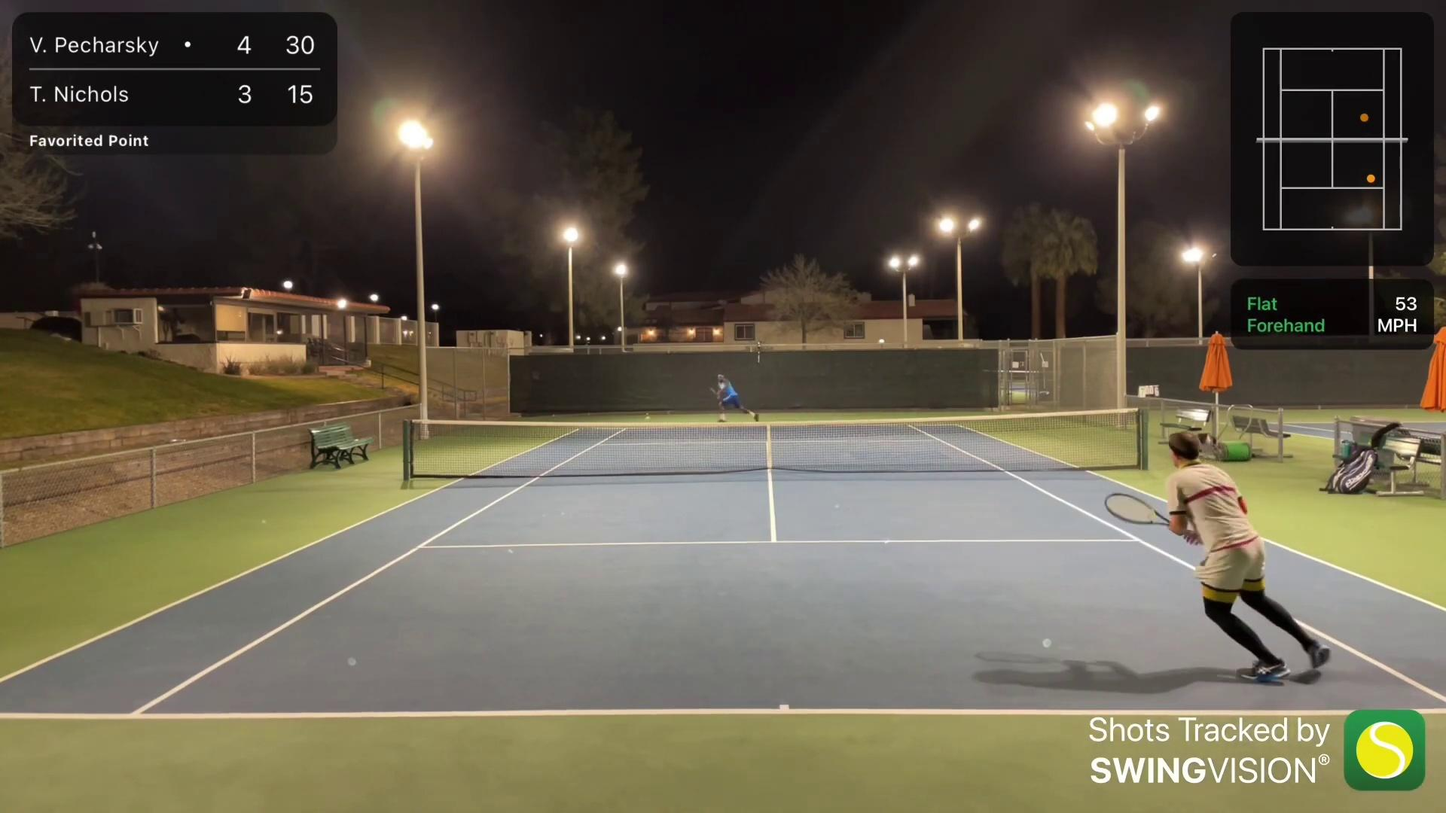ball: (641, 411, 653, 426)
